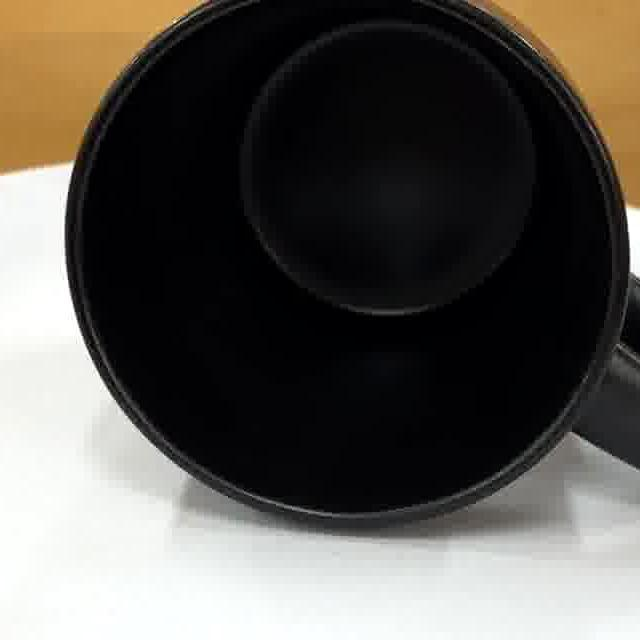cup: (66, 0, 640, 532)
